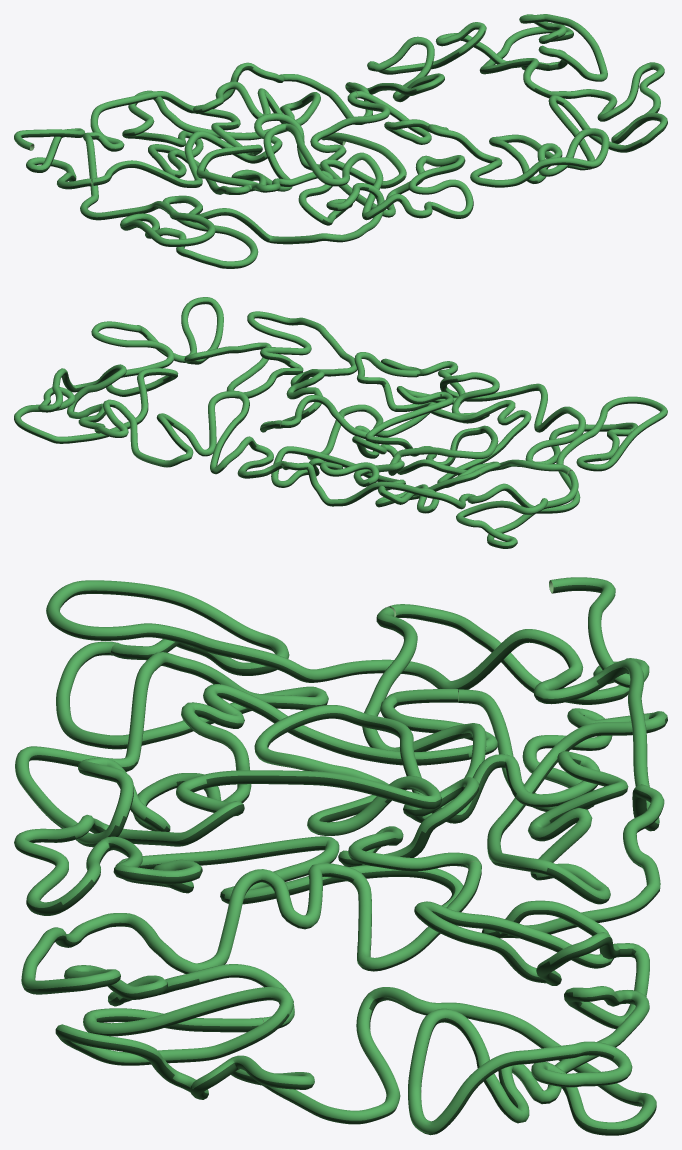
Rendered from T1_MeshTube.fbx.
The picture shows the model from 3 angles, top to bottom: view 1: azimuth 30°, elevation 25°; view 2: azimuth 150°, elevation 25°; view 3: azimuth 270°, elevation 25°; orthographic projection. The views are drawn at different scales.
Visible parts, largest first — view 1: mesh7_outside, mesh5_outside, mesh6_outside, mesh4_outside, mesh3_outside, mesh2_Outside, mesh1_outside; view 2: mesh5_outside, mesh7_outside, mesh4_outside, mesh6_outside, mesh3_outside, mesh2_Outside, mesh1_outside; view 3: mesh5_outside, mesh7_outside, mesh6_outside, mesh4_outside, mesh3_outside, mesh2_Outside, mesh1_outside.
Boxes of the visible parts, <box> form: mesh7_outside: <box>122,81,473,220</box>; mesh5_outside: <box>80,14,607,248</box>; mesh6_outside: <box>151,149,384,268</box>; mesh4_outside: <box>479,26,667,170</box>; mesh3_outside: <box>355,91,609,187</box>; mesh2_Outside: <box>93,91,390,187</box>; mesh1_outside: <box>14,128,92,189</box>; mesh5_outside: <box>38,364,667,513</box>; mesh7_outside: <box>271,352,498,513</box>; mesh4_outside: <box>14,297,271,443</box>; mesh6_outside: <box>430,372,637,487</box>; mesh3_outside: <box>226,311,357,432</box>; mesh2_Outside: <box>281,395,572,475</box>; mesh1_outside: <box>456,470,578,548</box>; mesh5_outside: <box>46,580,664,1135</box>; mesh7_outside: <box>14,689,667,915</box>; mesh6_outside: <box>15,641,497,847</box>; mesh4_outside: <box>55,987,656,1135</box>; mesh3_outside: <box>21,861,481,1028</box>; mesh2_Outside: <box>338,607,486,871</box>; mesh1_outside: <box>387,577,649,704</box>.
Size of the model in its own units: 424 by 35.01 by 234.
